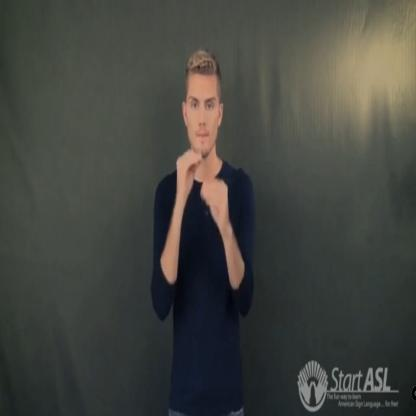Fix: (170, 144, 231, 243)
